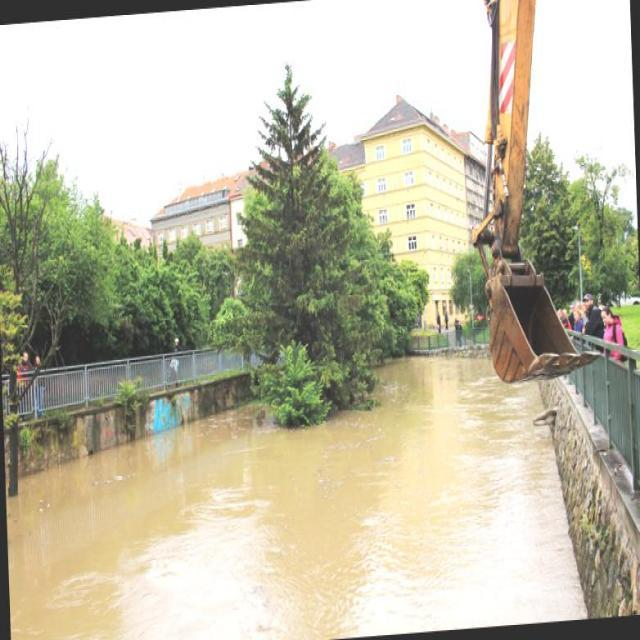flood: (3, 358, 579, 639)
